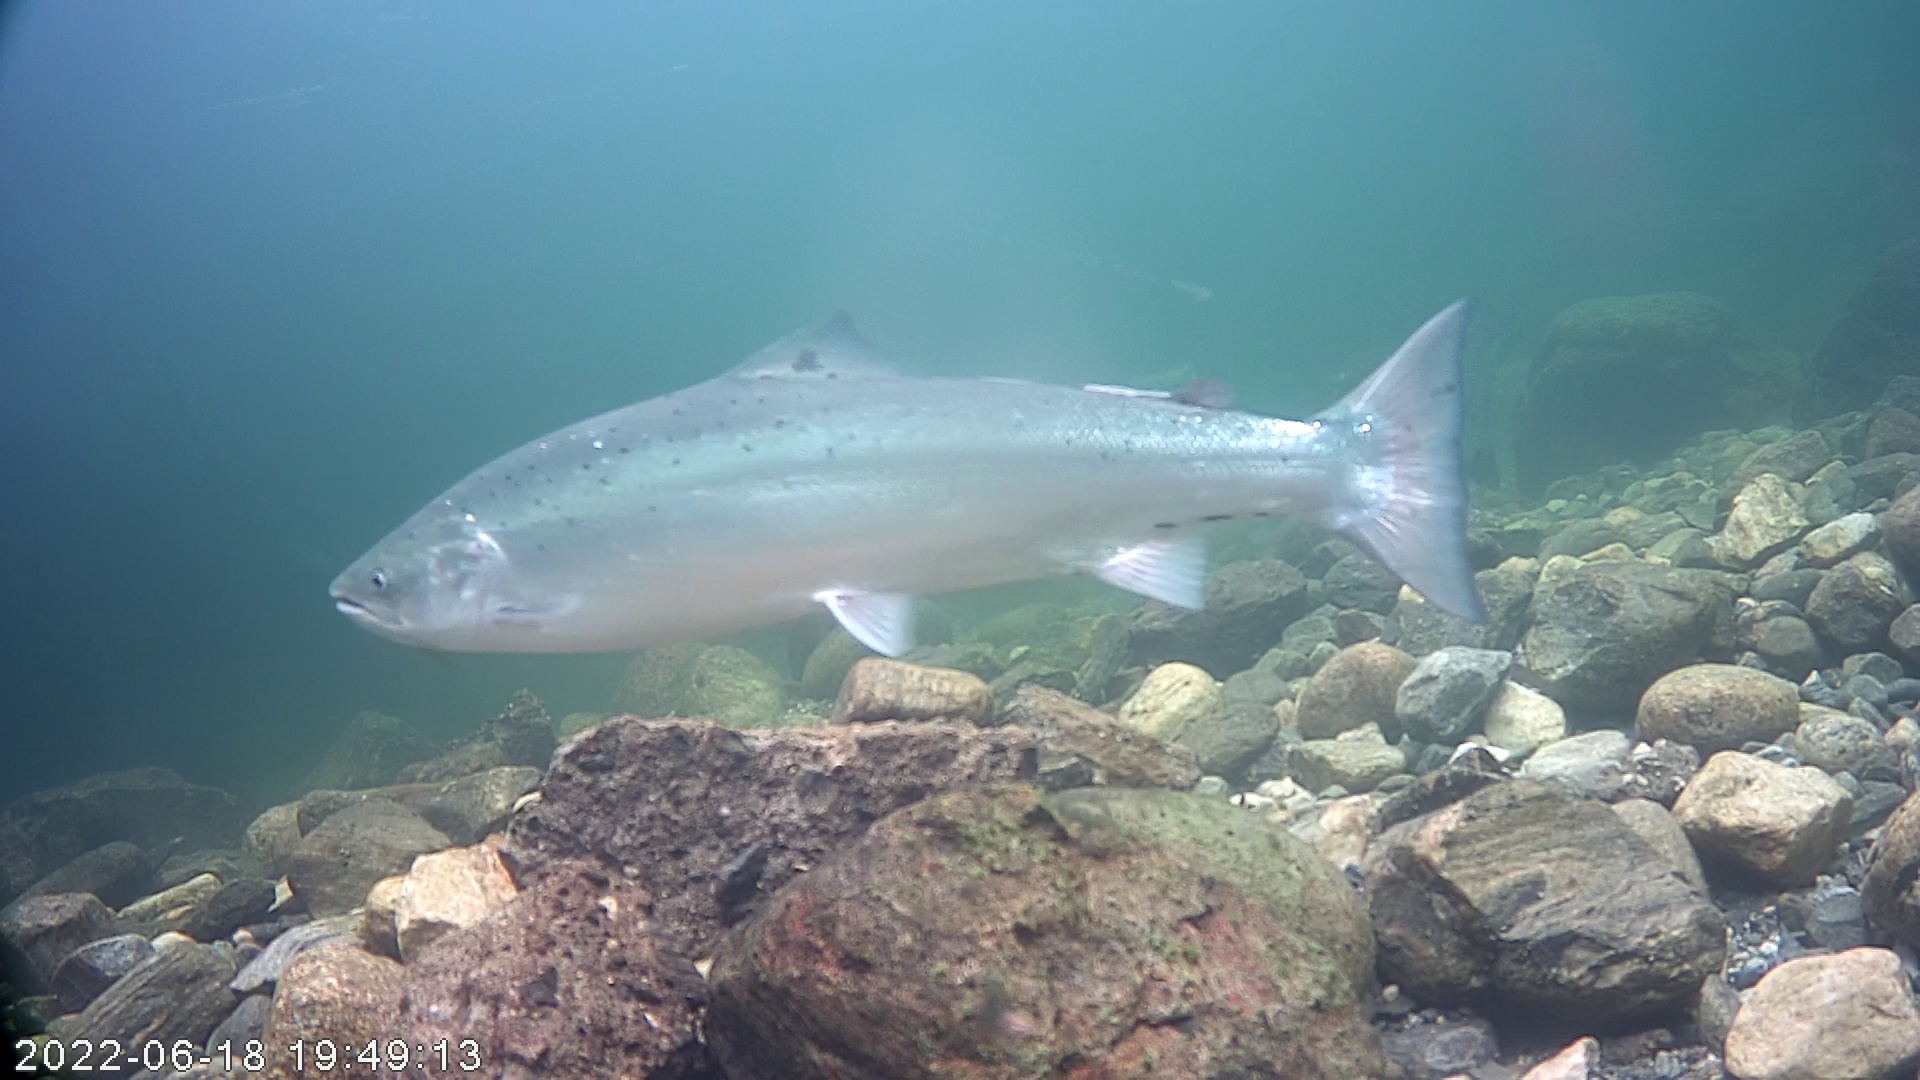salmon: (326, 293, 1489, 663)
